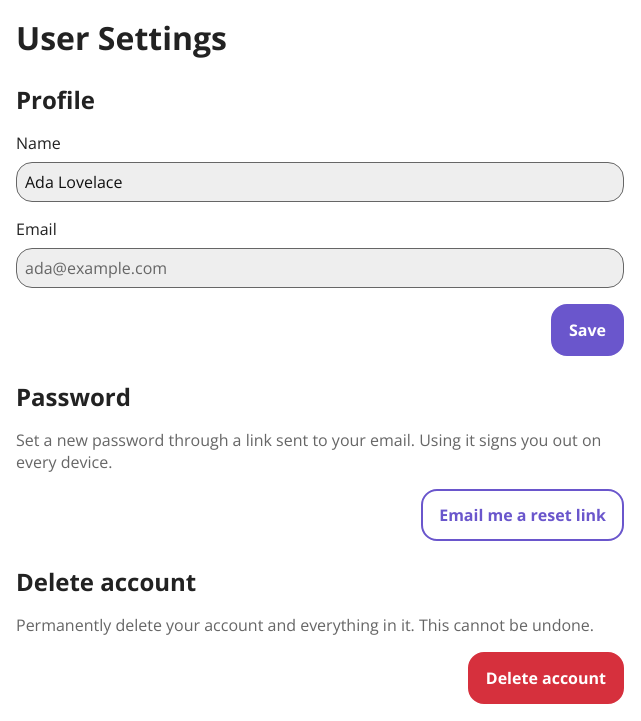
it: UserSettings › saves a new name
Expected: the heading "User Settings" is shown, [16,16,227,59]
Replace the text in the field labelled "Name" with "Ada King" at x=320, y=182, box [16,162,624,202]
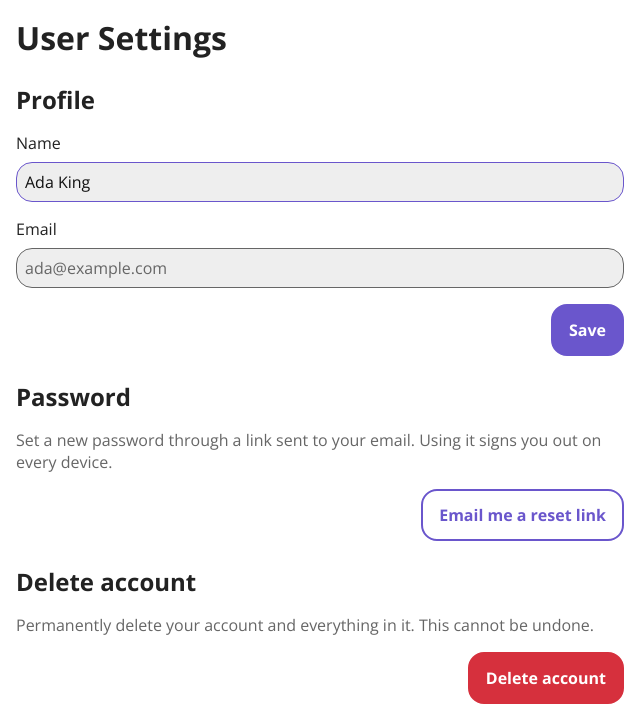
Click the button "Save" at x=588, y=330, box [551,304,624,356]
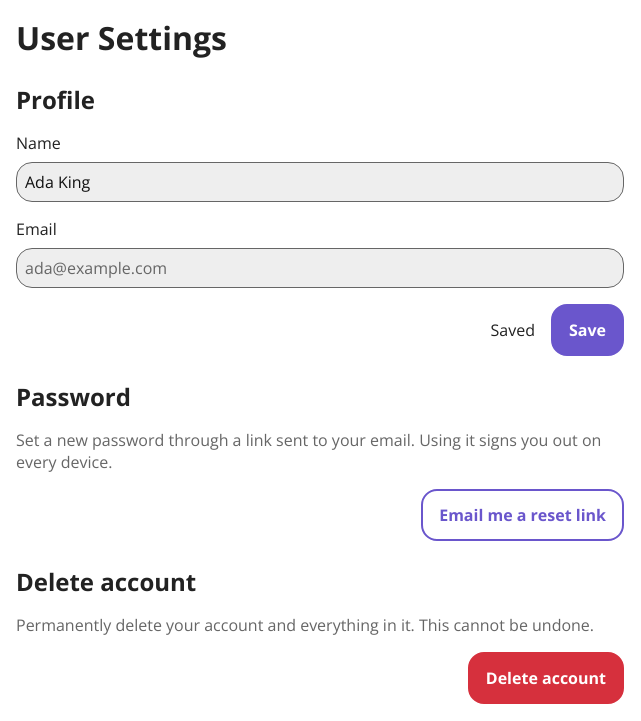
Expected: the message reads "Saved", [490,319,535,341]
